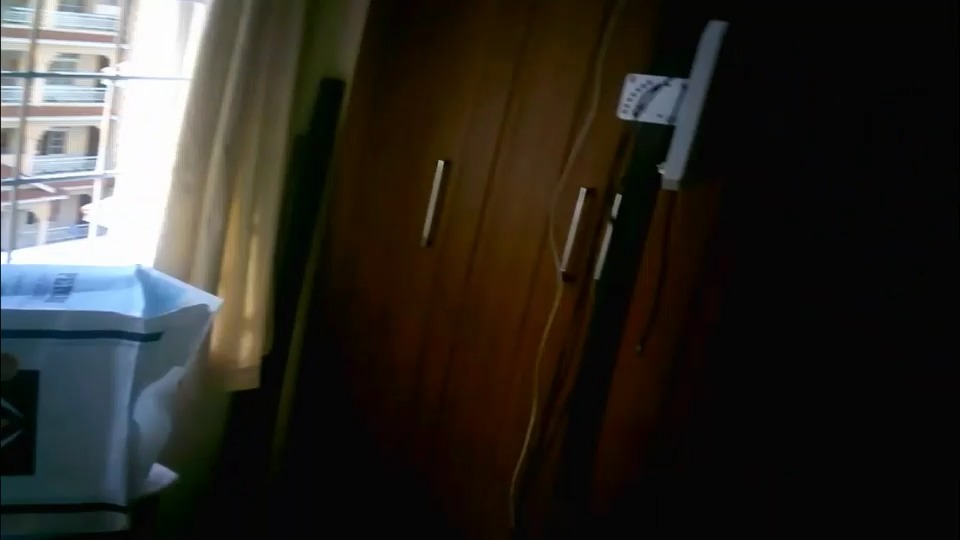wheat_flour_blue_label: (0, 264, 217, 532)
